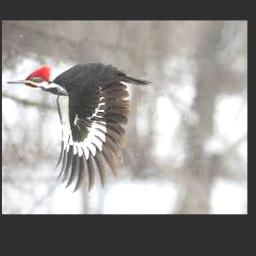Woodpecker: (6, 64, 152, 191)
